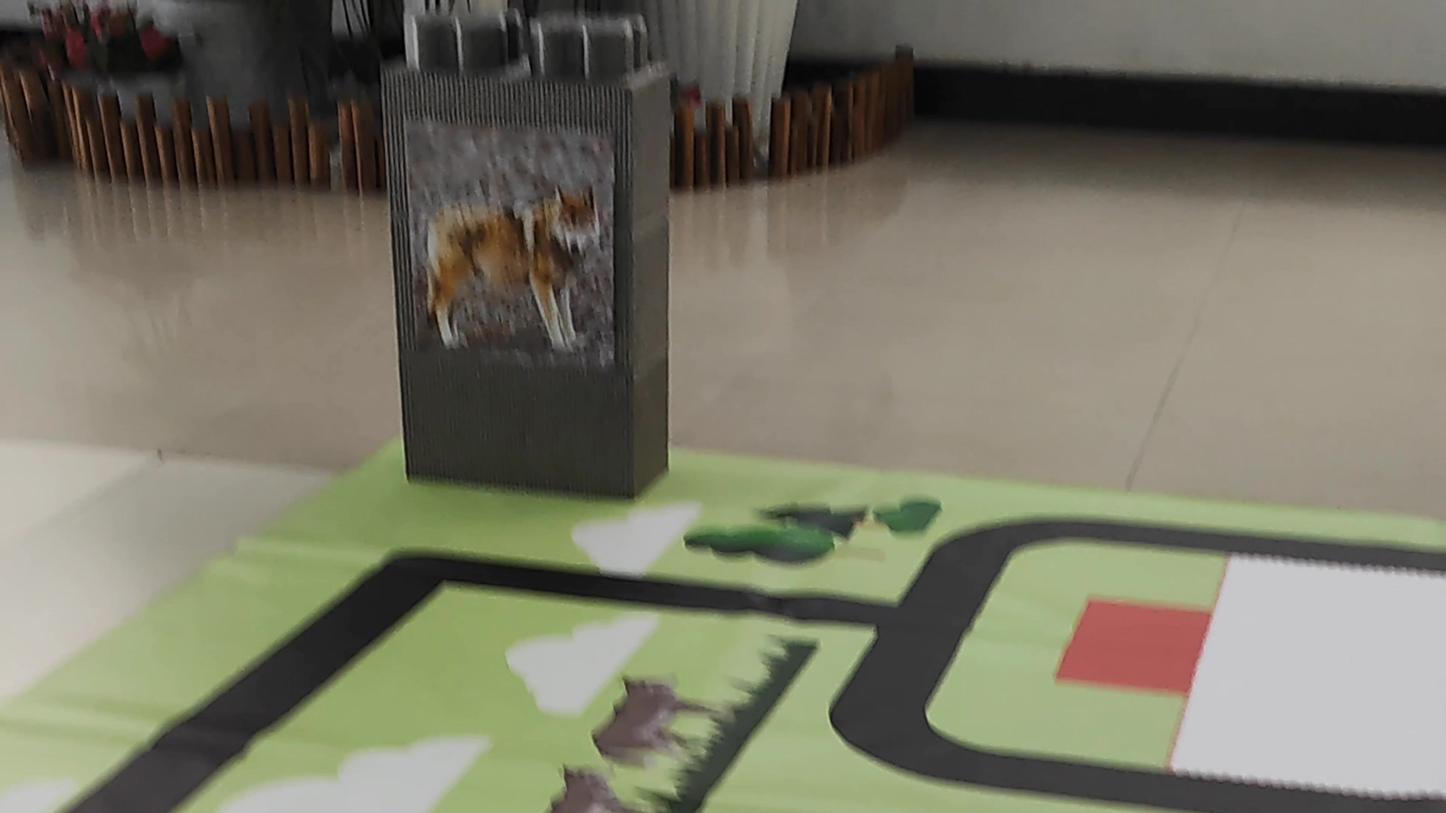wolf: (414, 128, 610, 359)
